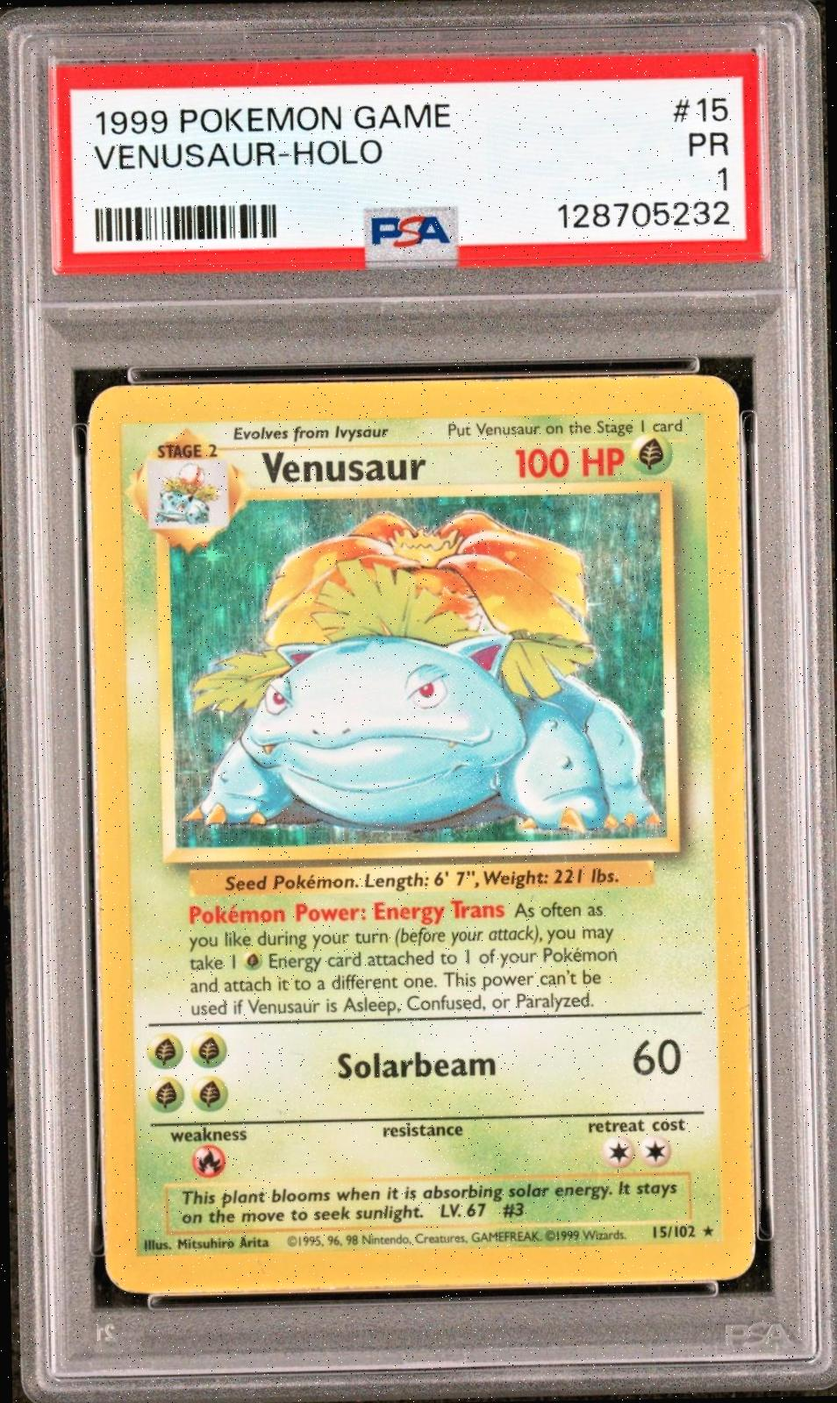card-2UtV: (86, 374, 756, 1295)
